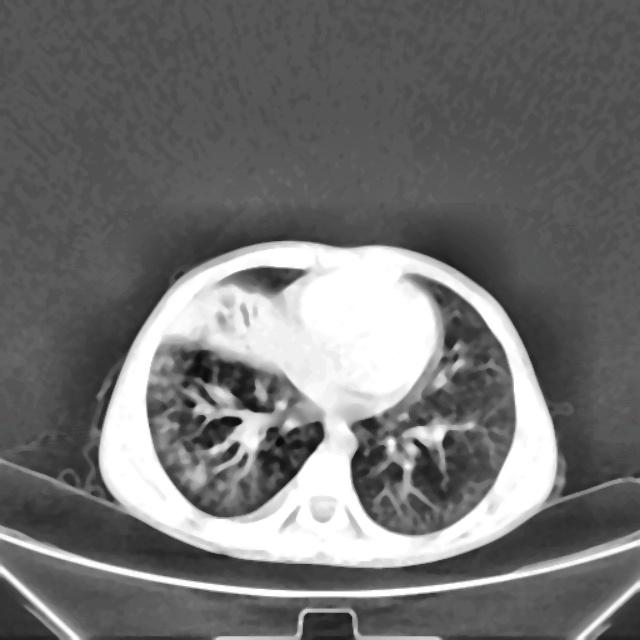covid: (95, 238, 562, 568)
